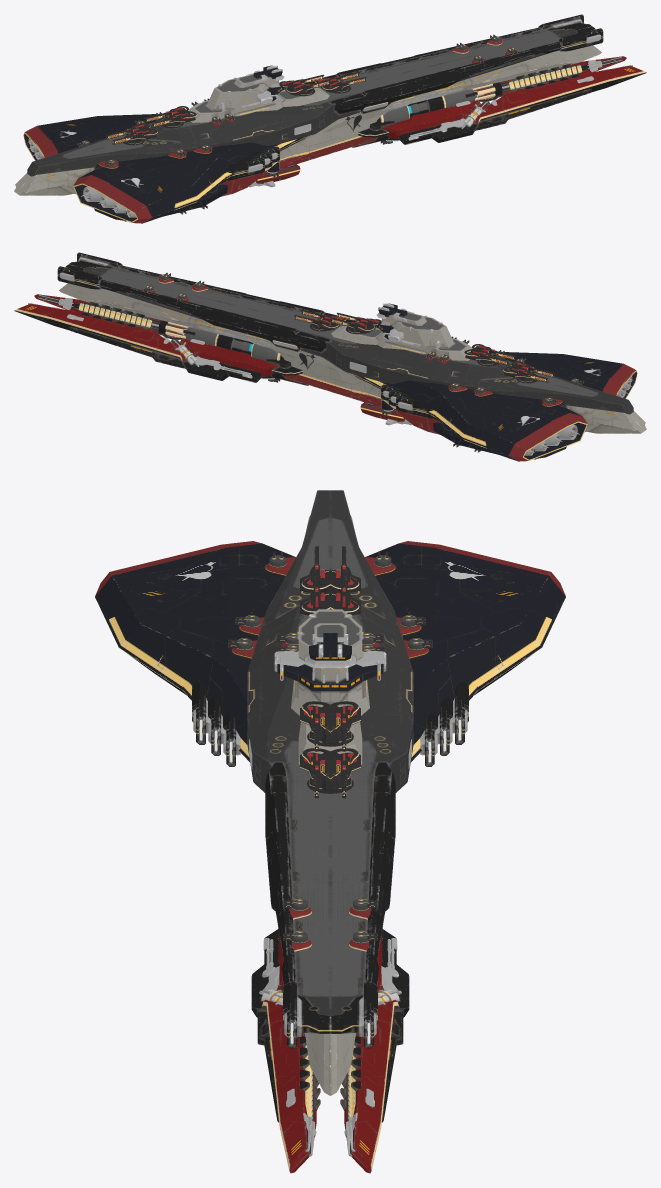
File: aquamarine-detail.glb
3 renders of one model, top to bottom at view 1: azimuth 30°, elevation 25°; view 2: azimuth 150°, elevation 25°; view 3: azimuth 270°, elevation 25°, orthographic. The views are drawn at different scales.
Visible parts, largest first — view 1: aquamarine; view 2: aquamarine; view 3: aquamarine.
Part boxes in pixels (bbox=[...]): aquamarine: bbox=[14, 14, 646, 223]; aquamarine: bbox=[14, 252, 646, 461]; aquamarine: bbox=[95, 490, 565, 1173].
Size of the model in its own units: 140 by 23.94 by 46.07.
7 materials, 7 textured.
